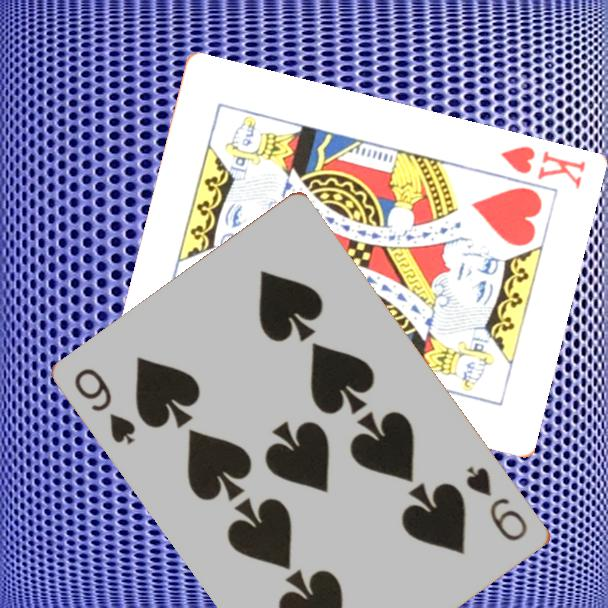h13: (495, 143, 588, 192)
s09: (71, 364, 140, 448), (463, 462, 531, 545)
